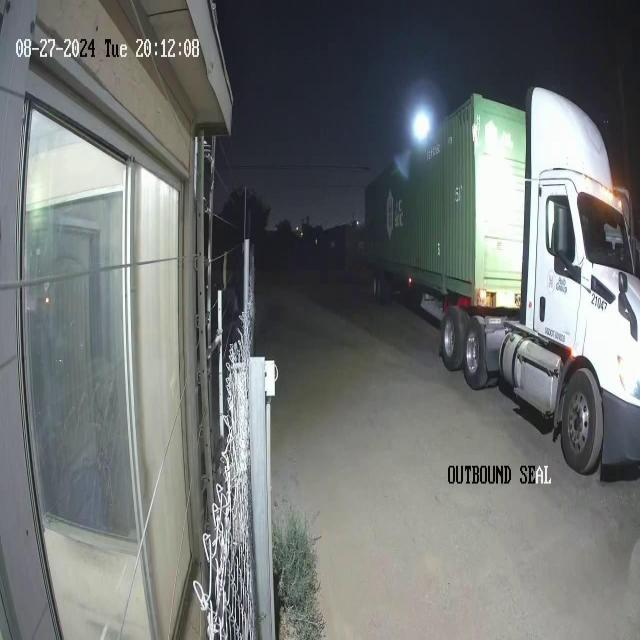TRUCK_IN: (363, 84, 639, 480)
